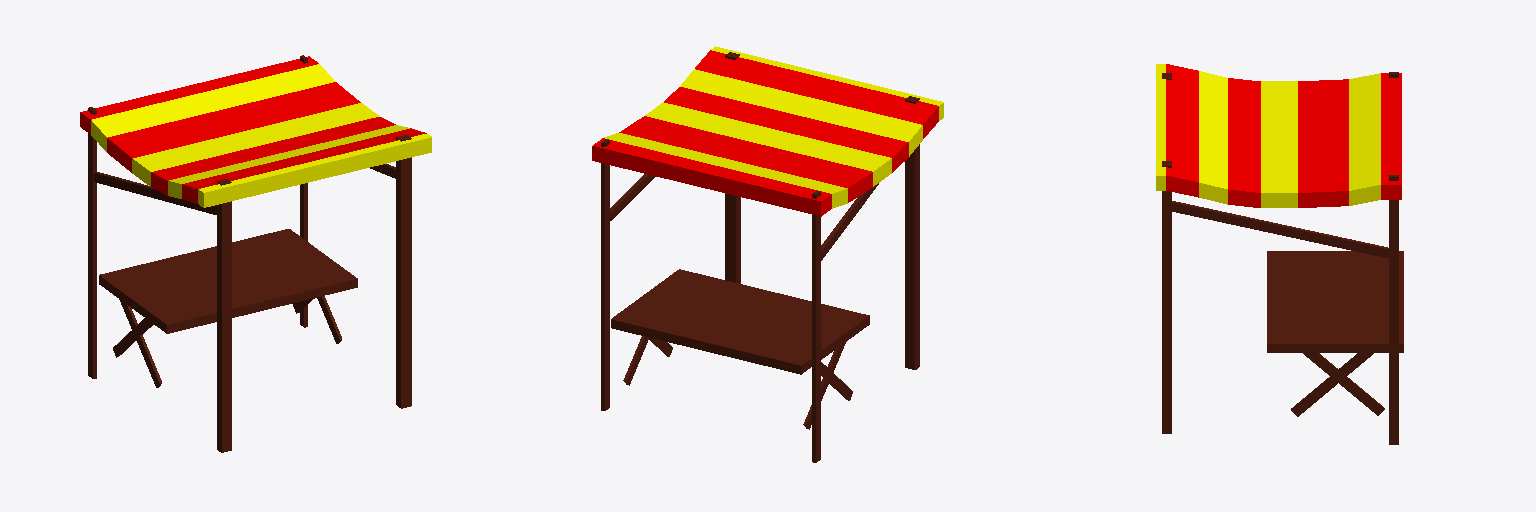
File: stall.obj
3 views of the same model, side by side, from view 1: azimuth 30°, elevation 25°; view 2: azimuth 150°, elevation 25°; view 3: azimuth 270°, elevation 25° (orthographic).
Visible parts, largest first — view 1: pCube8_Mesh.007, pCube1_Mesh, pCube7_Mesh.006, pCube6_Mesh.005, pCube10_Mesh.009, pCube11_Mesh.010, pCube2_Mesh.001, pCube9_Mesh.008; view 2: pCube8_Mesh.007, pCube1_Mesh, pCube6_Mesh.005, pCube10_Mesh.009, pCube9_Mesh.008, pCube7_Mesh.006, pCube11_Mesh.010, pCube12_Mesh.011; view 3: pCube8_Mesh.007, pCube1_Mesh, pCube9_Mesh.008, pCube7_Mesh.006, pCube12_Mesh.011, pCube5_Mesh.004, pCube4_Mesh.003.
Part boxes in pixels (left/top/right/bottom): pCube8_Mesh.007: left=80, top=56, right=431, bottom=207; pCube1_Mesh: left=99, top=229, right=357, bottom=333; pCube7_Mesh.006: left=396, top=135, right=411, bottom=408; pCube6_Mesh.005: left=217, top=179, right=231, bottom=452; pCube10_Mesh.009: left=88, top=107, right=96, bottom=378; pCube11_Mesh.010: left=94, top=172, right=216, bottom=214; pCube2_Mesh.001: left=119, top=299, right=161, bottom=387; pCube9_Mesh.008: left=300, top=55, right=307, bottom=327; pCube8_Mesh.007: left=592, top=46, right=943, bottom=216; pCube1_Mesh: left=611, top=269, right=869, bottom=374; pCube6_Mesh.005: left=905, top=96, right=919, bottom=369; pCube10_Mesh.009: left=812, top=191, right=820, bottom=462; pCube9_Mesh.008: left=601, top=139, right=609, bottom=410; pCube7_Mesh.006: left=725, top=52, right=740, bottom=283; pCube11_Mesh.010: left=821, top=183, right=878, bottom=260; pCube12_Mesh.011: left=609, top=174, right=655, bottom=220; pCube8_Mesh.007: left=1156, top=64, right=1401, bottom=207; pCube1_Mesh: left=1267, top=251, right=1403, bottom=352; pCube9_Mesh.008: left=1389, top=175, right=1398, bottom=444; pCube7_Mesh.006: left=1162, top=161, right=1171, bottom=433; pCube12_Mesh.011: left=1172, top=201, right=1388, bottom=257; pCube5_Mesh.004: left=1303, top=353, right=1384, bottom=415; pCube4_Mesh.003: left=1291, top=353, right=1373, bottom=416.
Size of the model in its own units: 0.1577 by 0.1806 by 0.148.